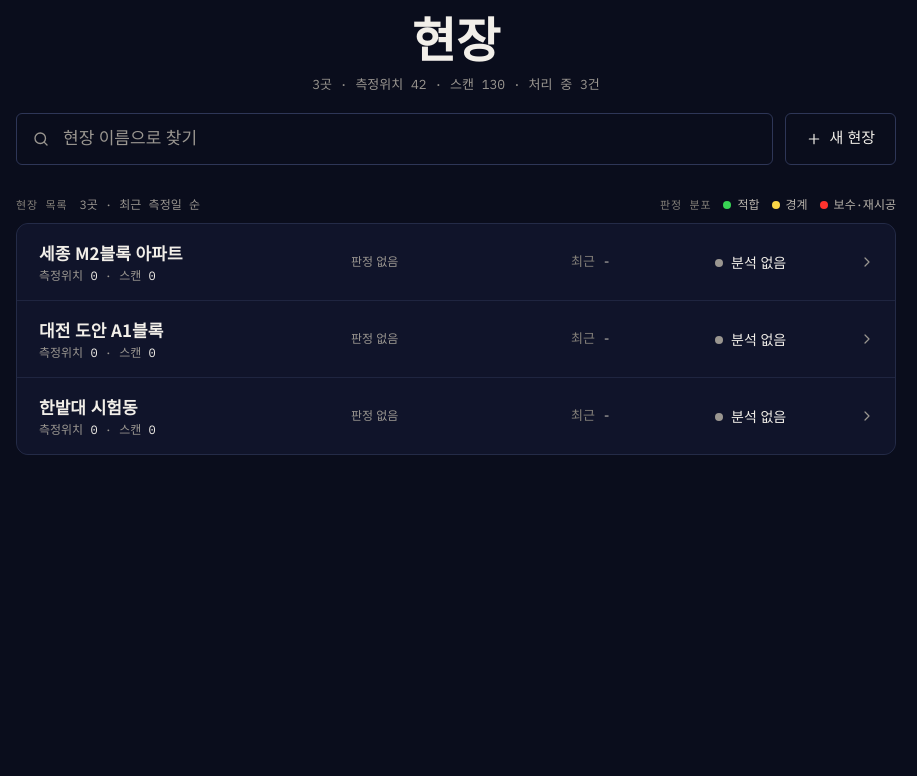
Scenario: SiteFinder 새 현장 카드 (펼치기 · 접기 · 초점) › 카드의 "취소"는 카드를 접고 초점을 "새 현장" 버튼으로 돌려준다
Click the button "새 현장" at (840, 139), box top-left (785, 113), bottom-right (896, 165)
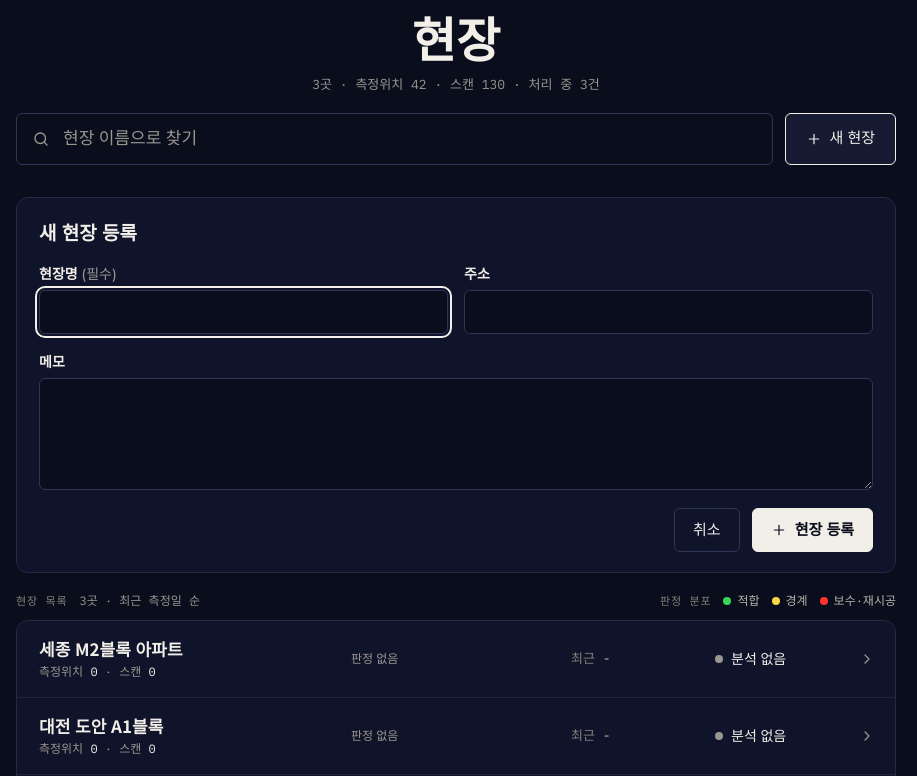
Click the button "취소" at (707, 530), box top-left (674, 508), bottom-right (740, 552)
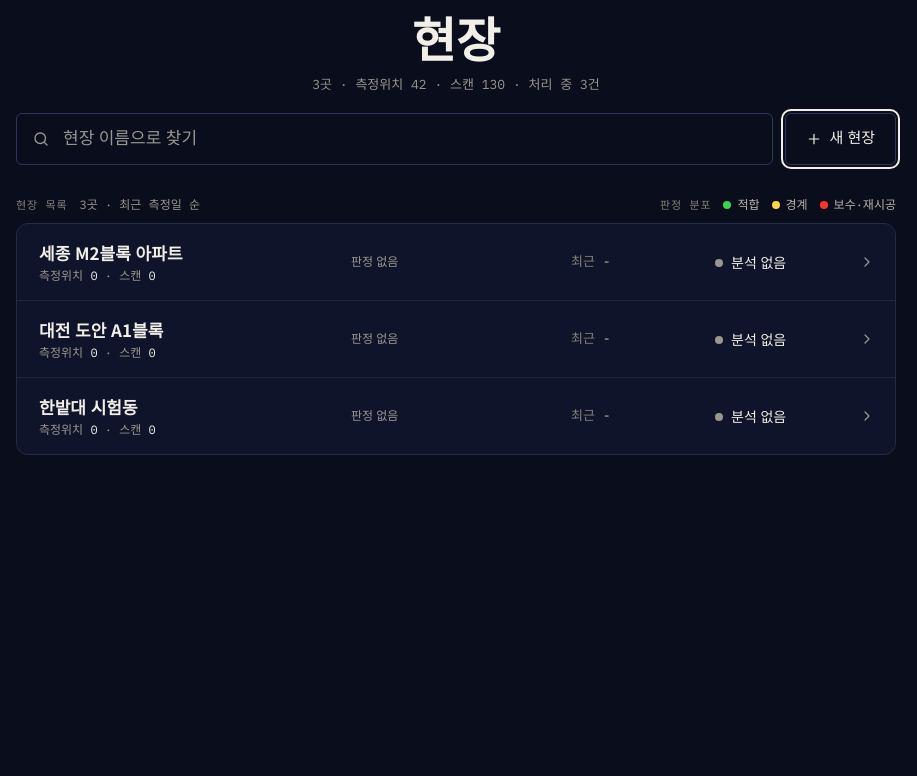
Expected: the heading "새 현장 등록" is gone
